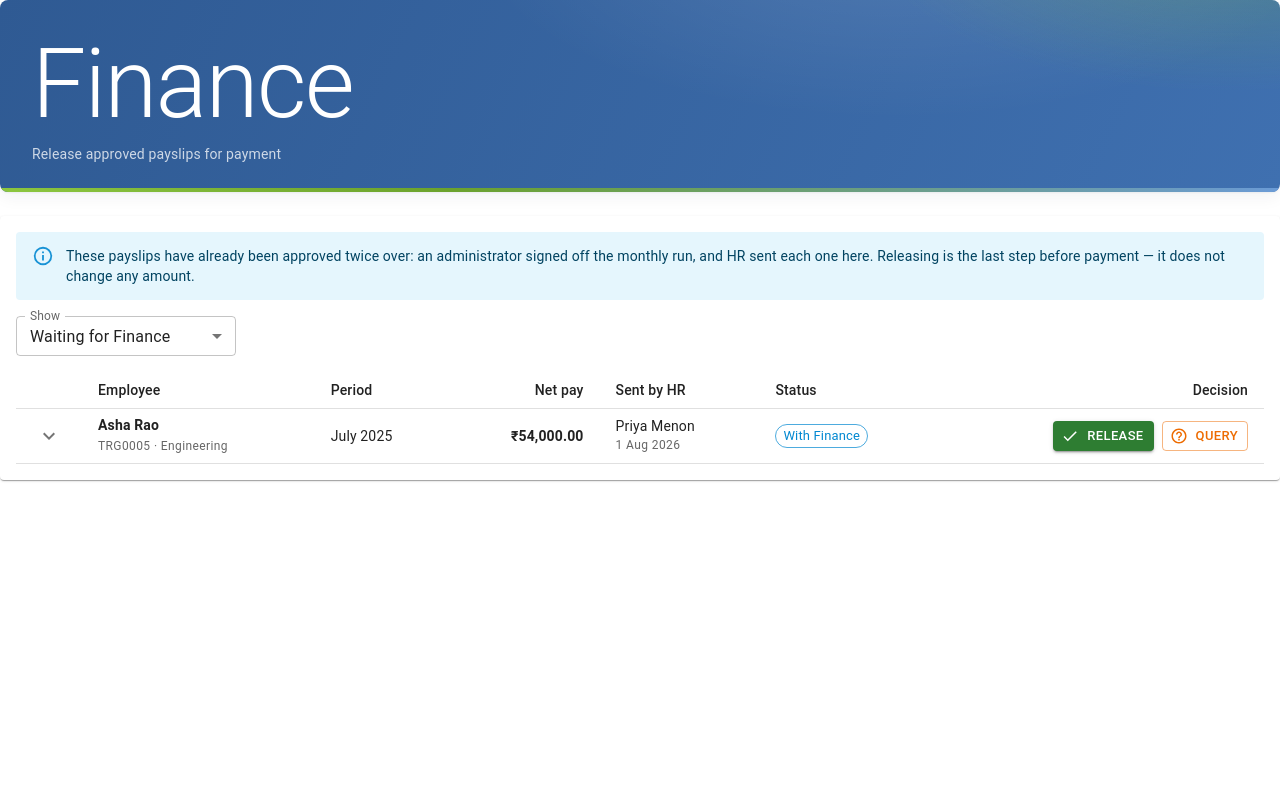
Test: FinancePage › says that releasing does not change the amount
Click the button "Release". click: (1103, 436)
box: top-left (1053, 421), bottom-right (1154, 452)
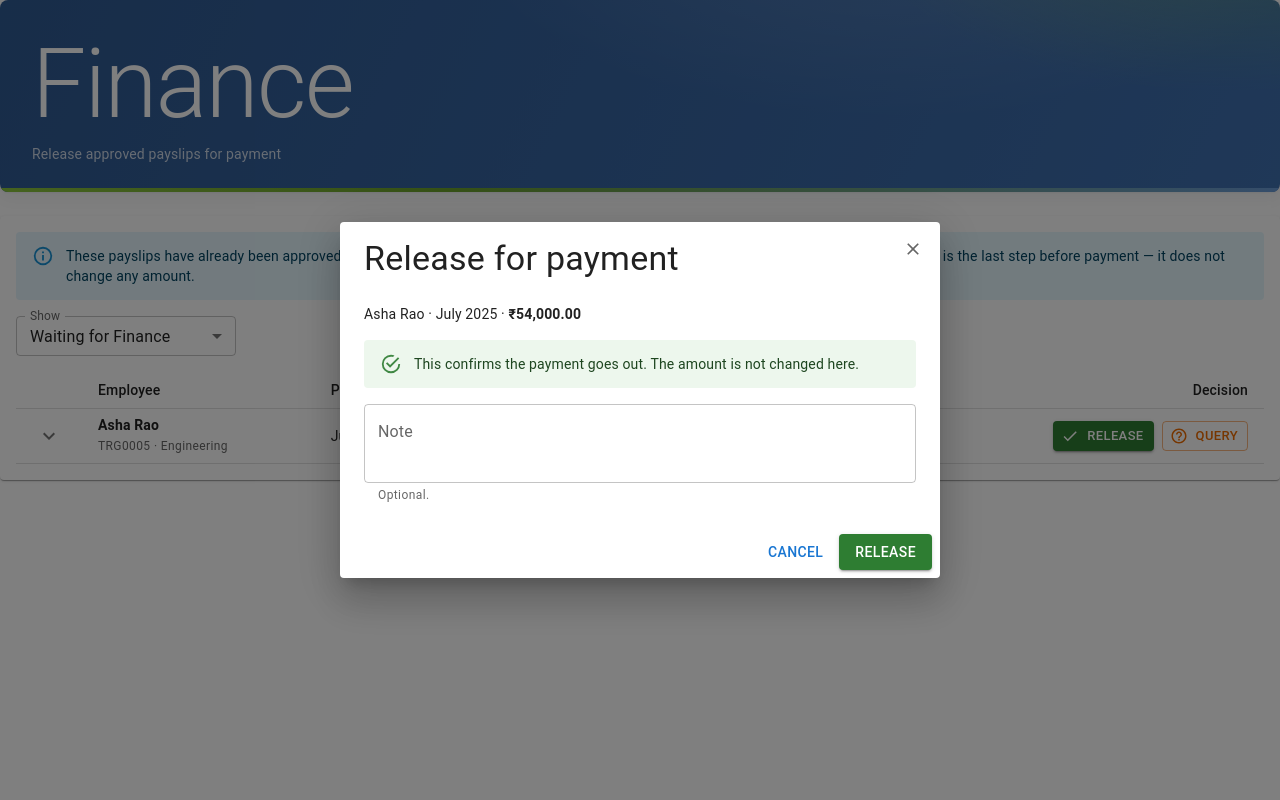
Check: the text "The amount is not changed here" is shown, box top-left (414, 356), bottom-right (859, 372)
